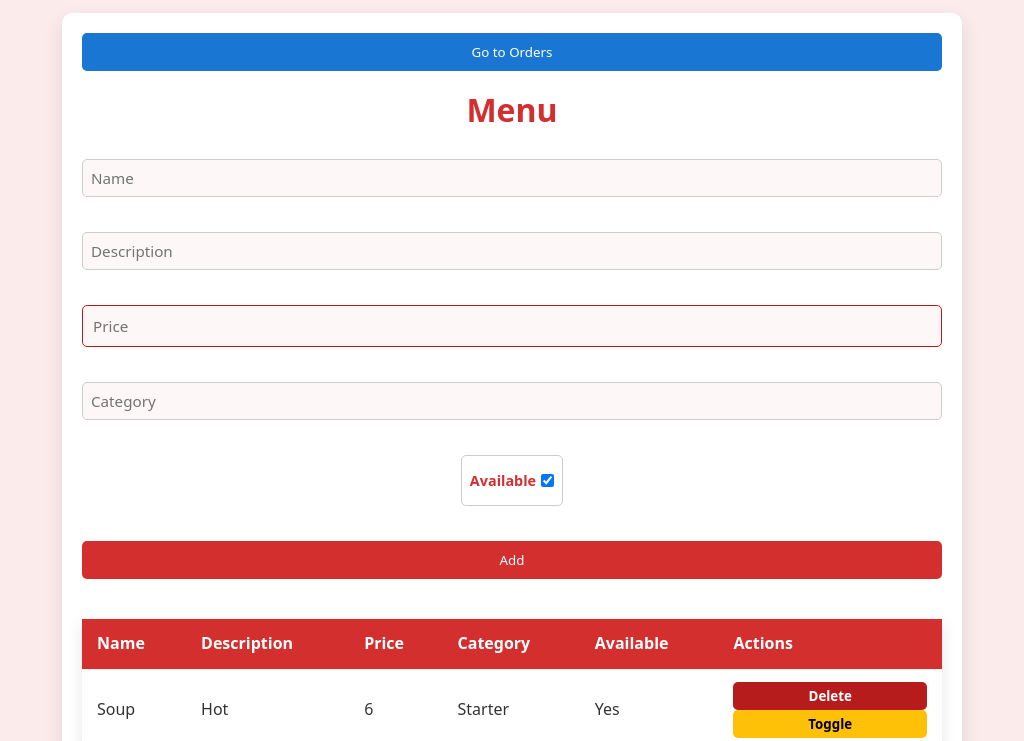
Test: Menu Component › toggles menu item availability
Click the button "Toggle" at (830, 724), box 733,710 -> 927,738
(page scrolled)
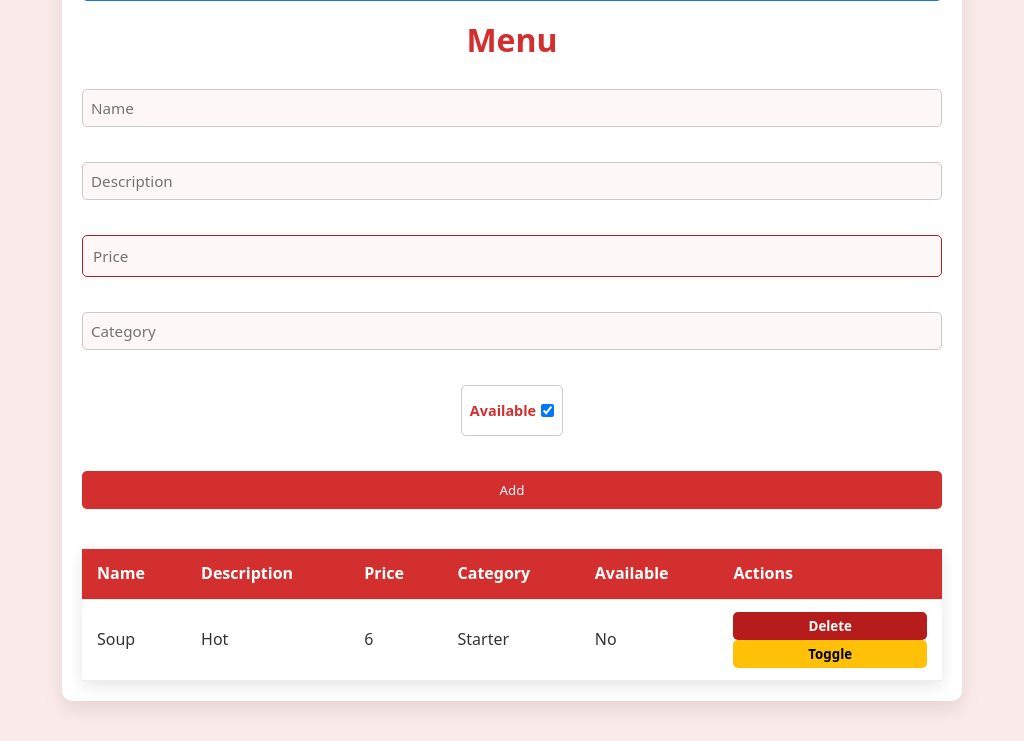
Expected: the text "No" is shown, 580,600 -> 718,680
